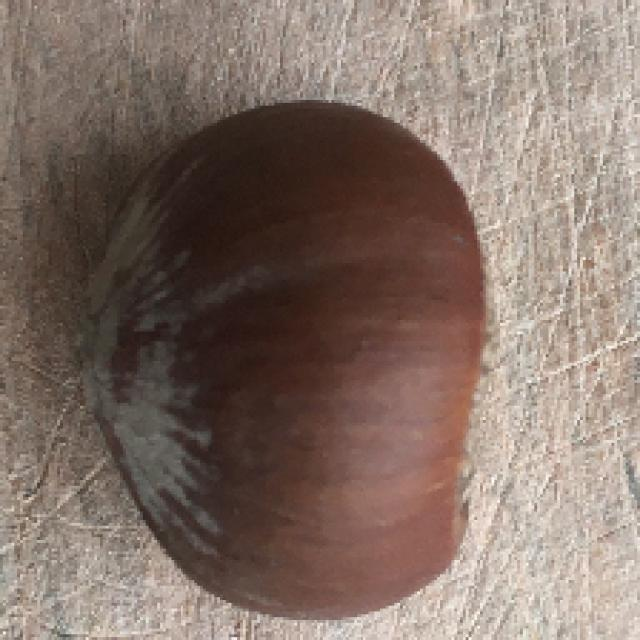DamagedHazelnut: (79, 105, 502, 618)
